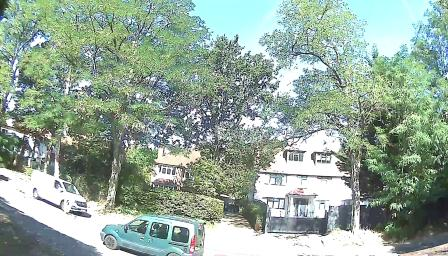Cars: (92, 212, 212, 254), (32, 167, 94, 216)
